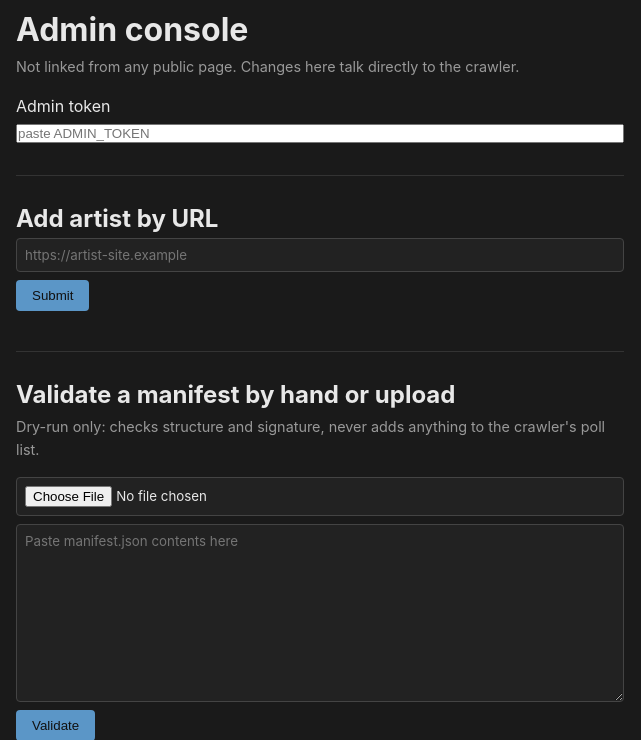
Scenario: AdminConsole › submits a URL and shows the accepted result
In the password field labelled "Admin token": (320, 133) [16,124,624,143], type "tok"
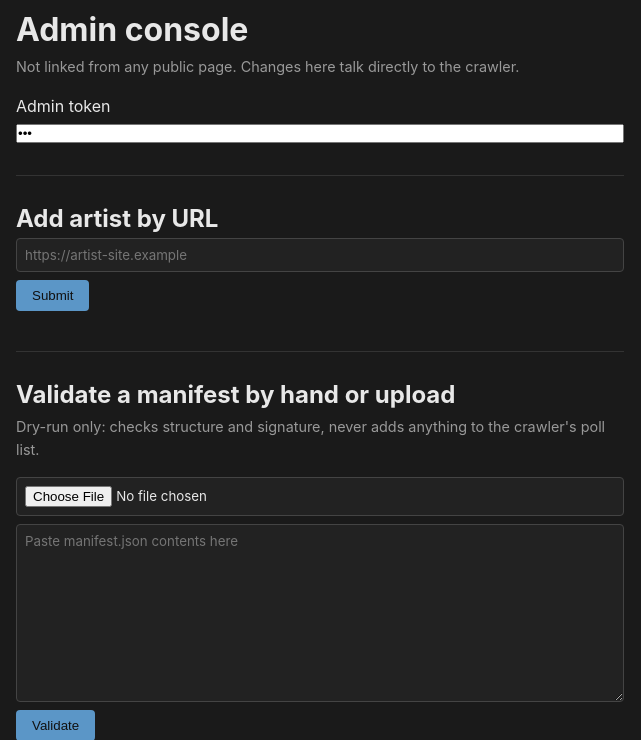
In the field named "artist url": (320, 255) [16,238,624,272], type "https://ligatures.example"
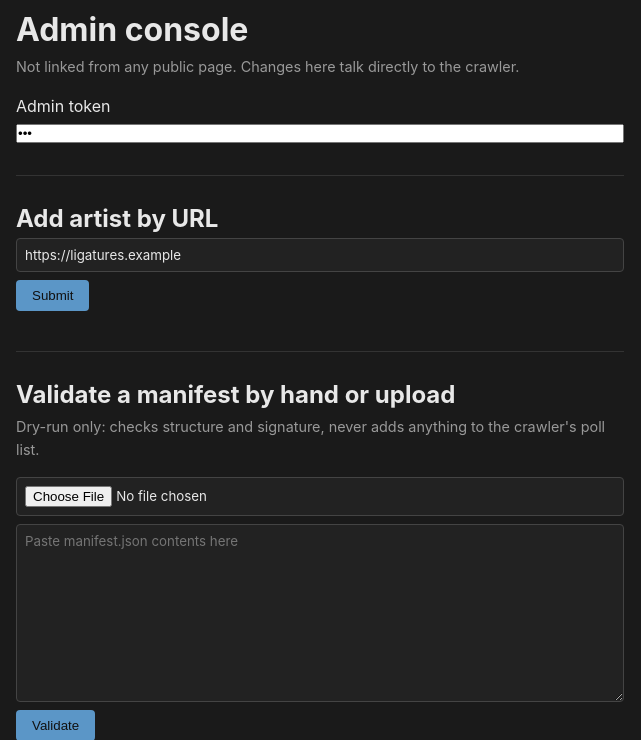
Click the button "Submit": (53, 296) [16,280,90,311]
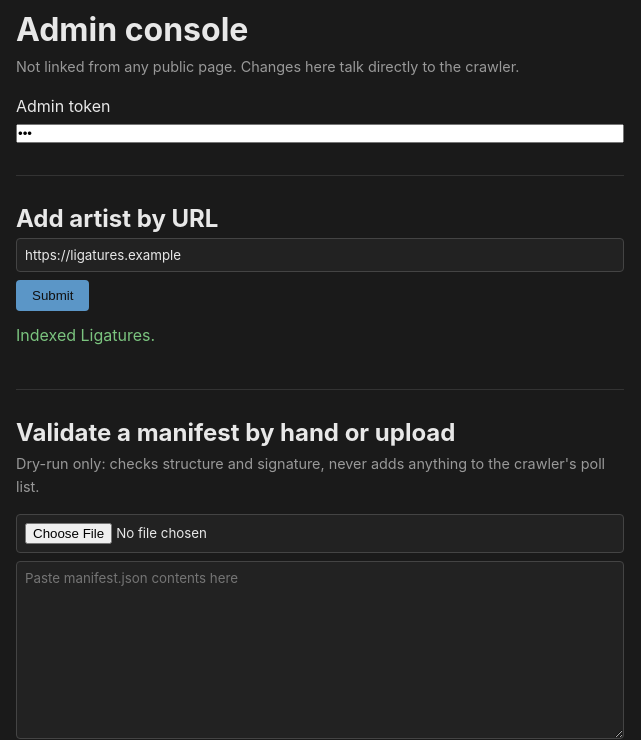
Expected: the text "Indexed Ligatures." is shown, [16,325,155,345]
